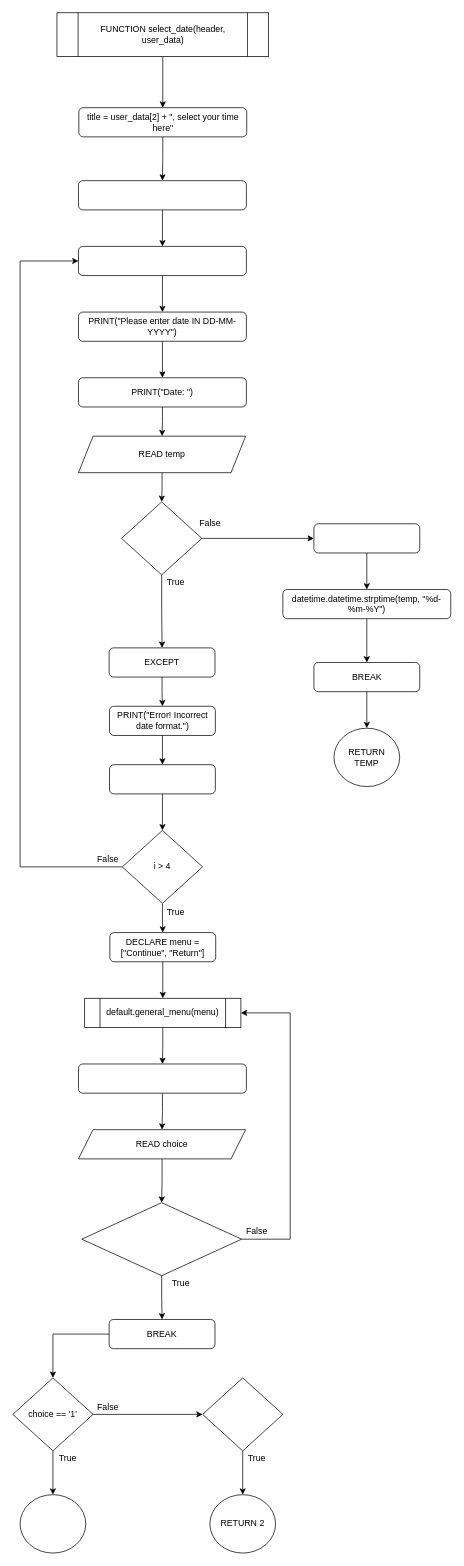
Image size: 464x1566. Some labels were removed from this diagram. The centre of each missing label's shape, as x and y in pixels:
choice == '1' OR choice == '2': point 161,1239
choice == '2': point 242,1414
i = 0: point 162,195
i = i + 1: point 162,779
PRINT("Please Select: "): point 162,1078
PRINT(header): point 162,261
RETURN 1: point 52,1523
TRY: point 366,538
Value Error: point 161,538
